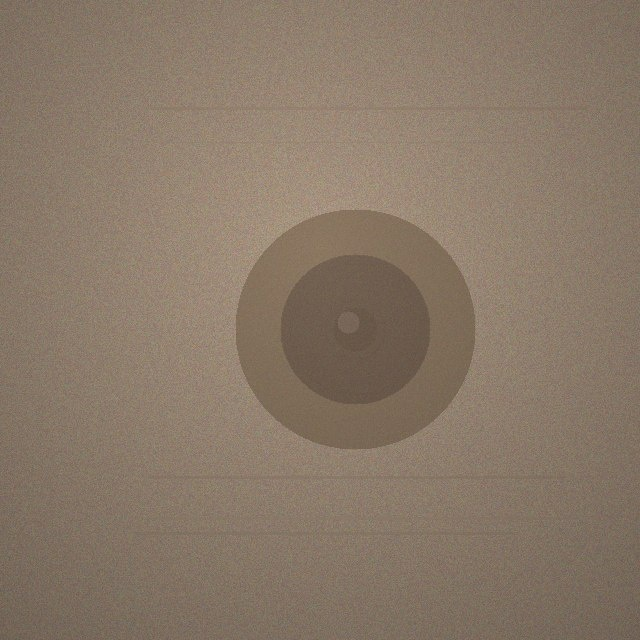good: (235, 209, 475, 449)
